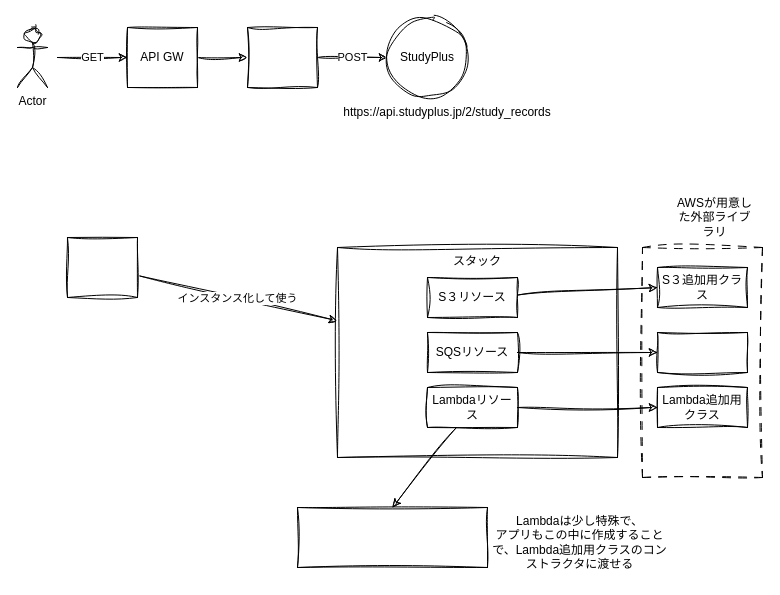
This 780x595 diagram has some shape labels left out. Here are the shapes that lost their labels. From the top down, the centre of each, then its label:
(x=282, y=57): Lambda
(x=102, y=267): bin/study-record.ts
(x=702, y=352): SQS追加用クラス
(x=392, y=537): Lambdaのアプリ （Node.js or Python or JS or GOなどのプロジェクト）
